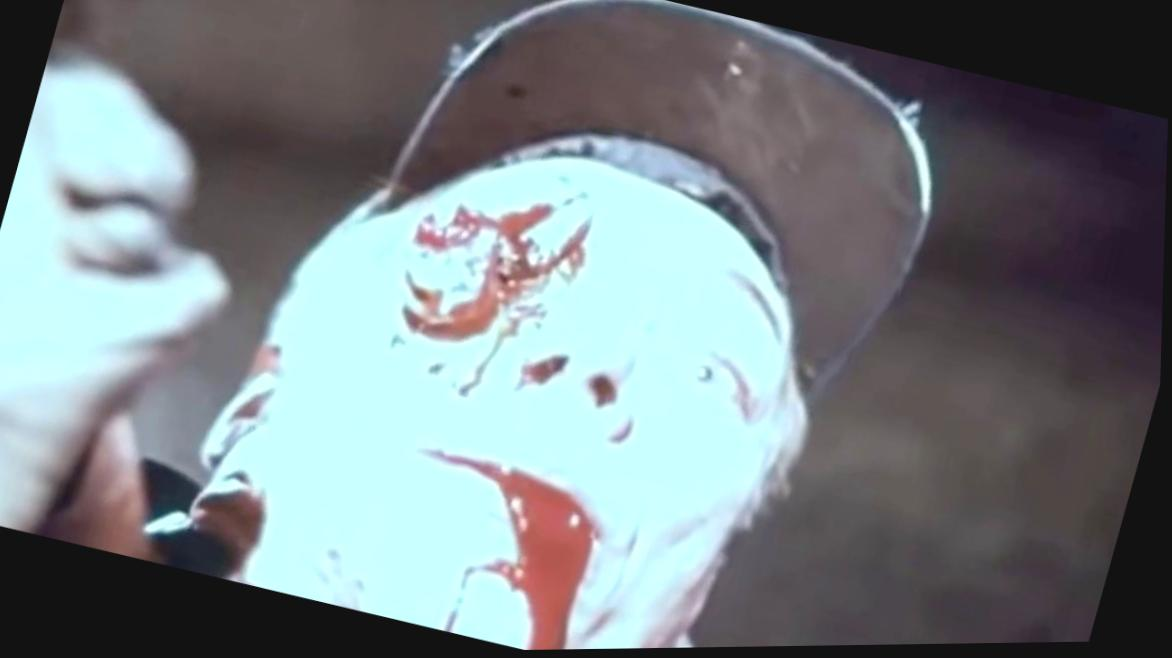Fire: (425, 450, 600, 652), (405, 204, 589, 342), (523, 357, 570, 385)
